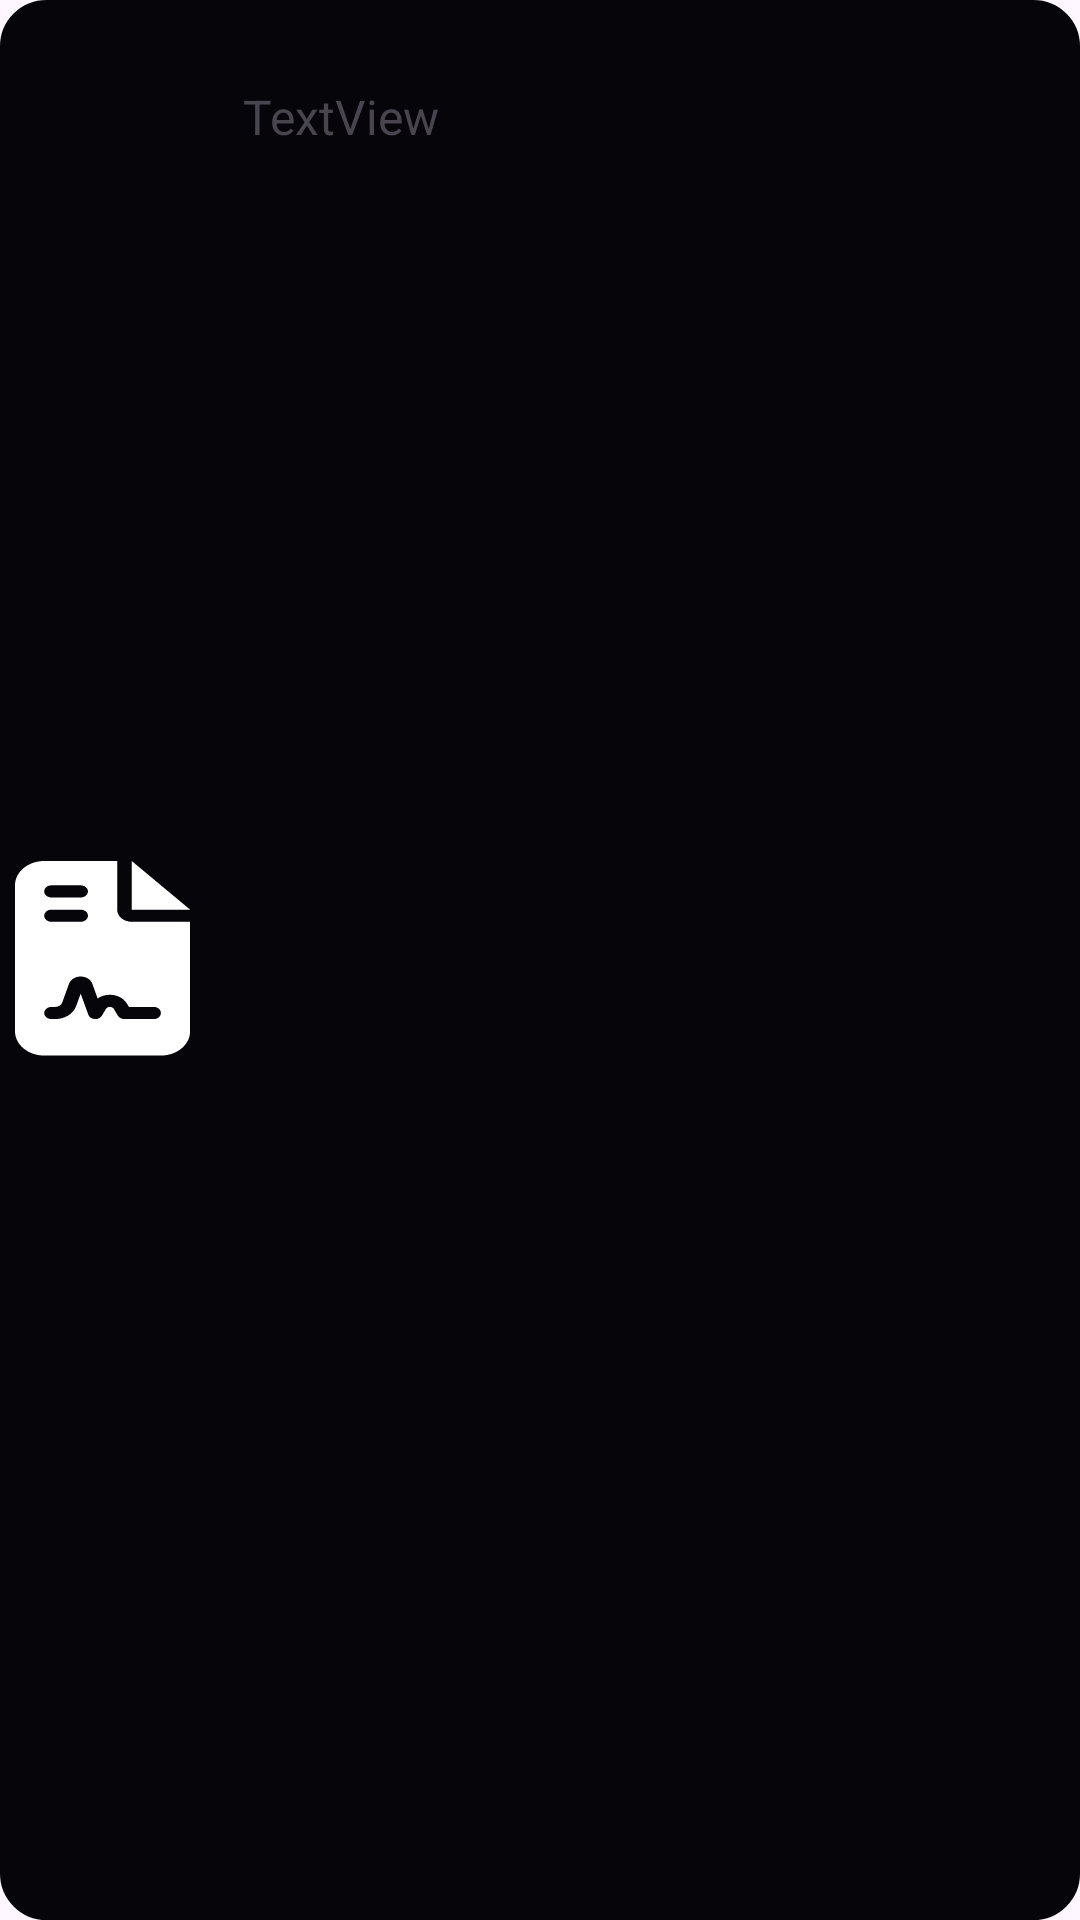

Where to tap for icons on this 1080*1920 app screen, as [x,y]:
file contract: [102,958]
